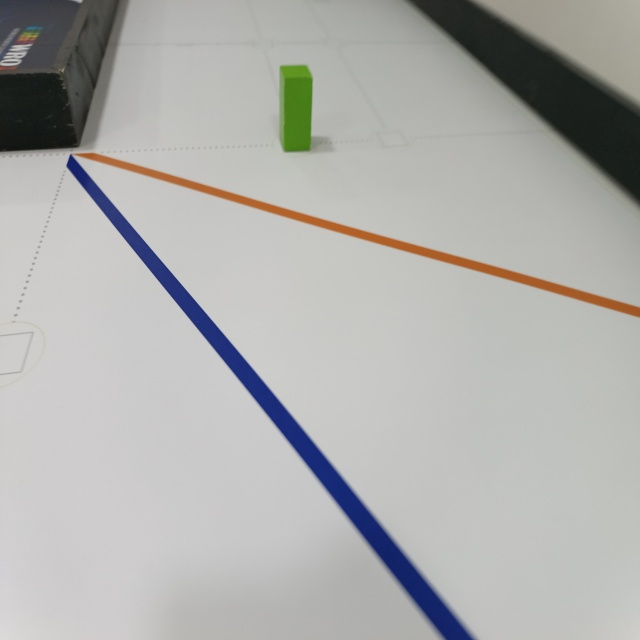blue line: (61, 156, 478, 640)
green rectangular prism: (274, 61, 317, 155)
orange line: (80, 150, 640, 312)
